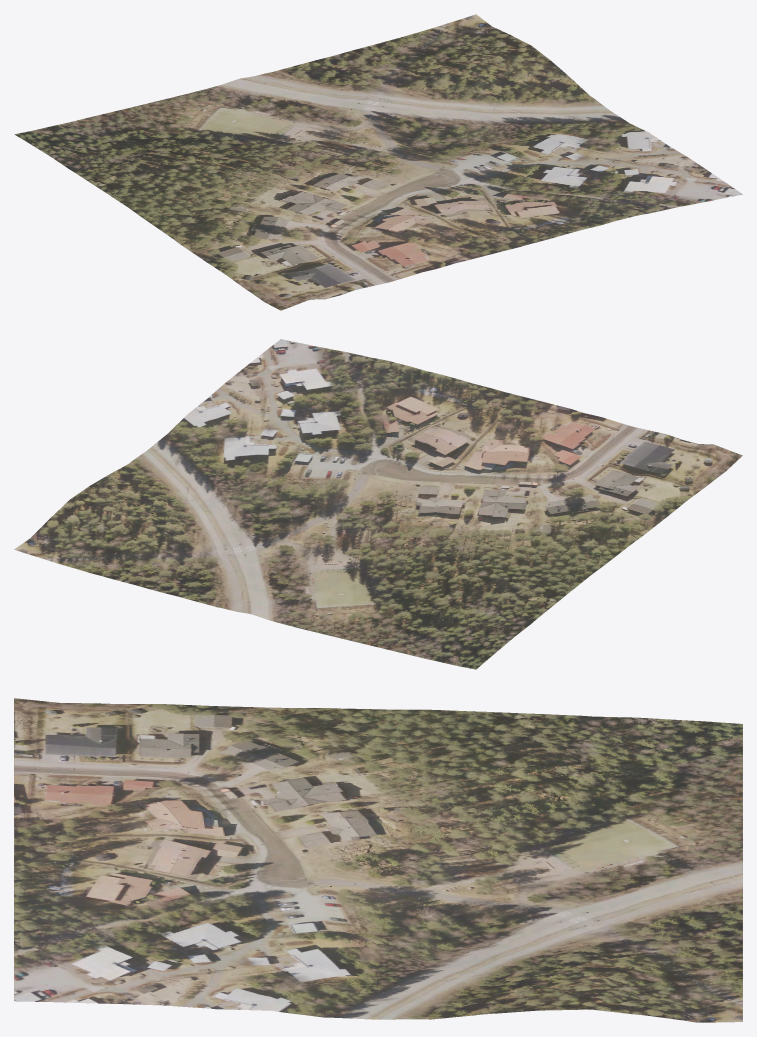
File: CM_Terrain_24490458_6816927.fbx
3 views of the same model, one above another, from view 1: azimuth 30°, elevation 25°; view 2: azimuth 150°, elevation 25°; view 3: azimuth 270°, elevation 25° (orthographic). The views are drawn at different scales.
Parts seen in each view (by area): view 1: CM_Terrain_24490458_6816927_LOD0; view 2: CM_Terrain_24490458_6816927_LOD0; view 3: CM_Terrain_24490458_6816927_LOD0.
Part boxes in pixels (x1,y1,x2,y2): CM_Terrain_24490458_6816927_LOD0: [14, 14, 742, 310]; CM_Terrain_24490458_6816927_LOD0: [14, 339, 742, 669]; CM_Terrain_24490458_6816927_LOD0: [14, 698, 742, 1022].
Size of what is drawn, in the model's own units: 205 by 12.22 by 205.
